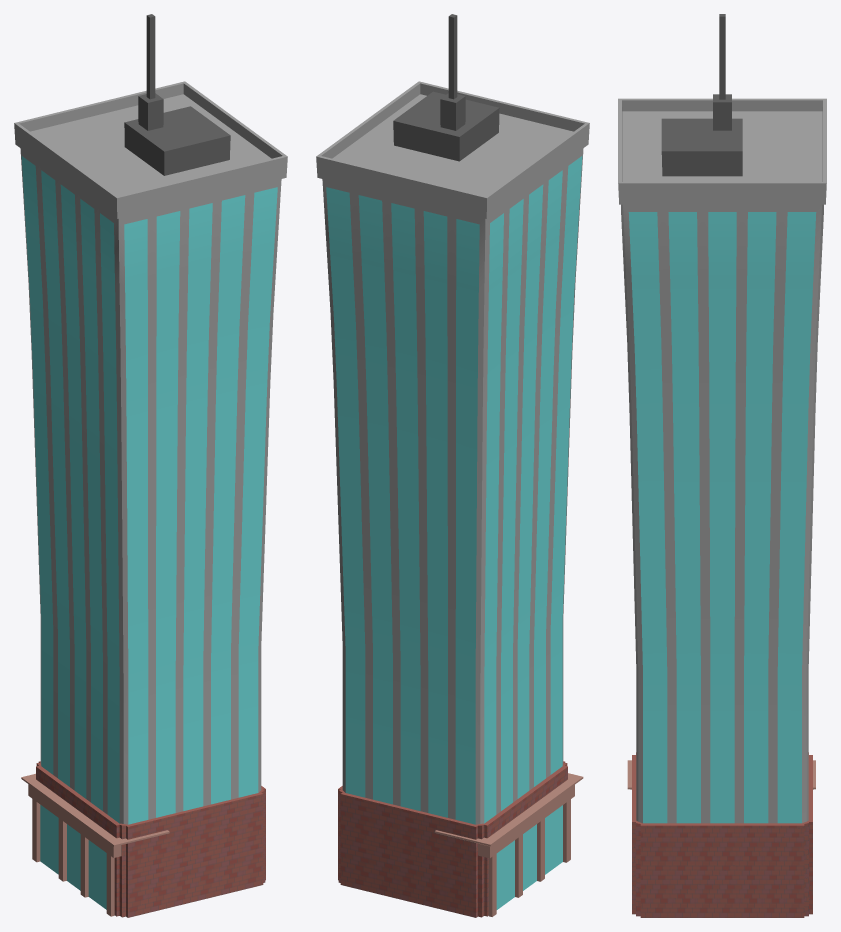
Rendered from building_high_rise.fbx.
3 renders of one model, left to right at view 1: azimuth 30°, elevation 25°; view 2: azimuth 150°, elevation 25°; view 3: azimuth 270°, elevation 25°, orthographic.
Parts seen in each view (by area): view 1: building_high_rise; view 2: building_high_rise; view 3: building_high_rise.
Boxes of the visible parts, left/top/right/bottom form: building_high_rise: left=14, top=14, right=287, bottom=917; building_high_rise: left=316, top=14, right=589, bottom=917; building_high_rise: left=618, top=14, right=826, bottom=917.
Bounding box in the file's own units: 7.06 × 33.67 × 7.36.
